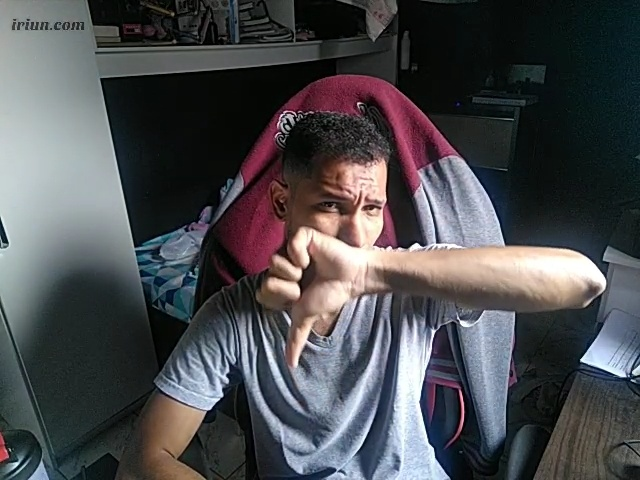não: (244, 221, 360, 375)
